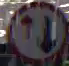Two way: (8, 0, 68, 65)
